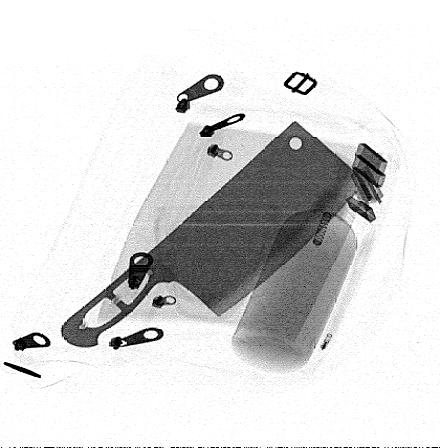Knife: (60, 120, 367, 348)
